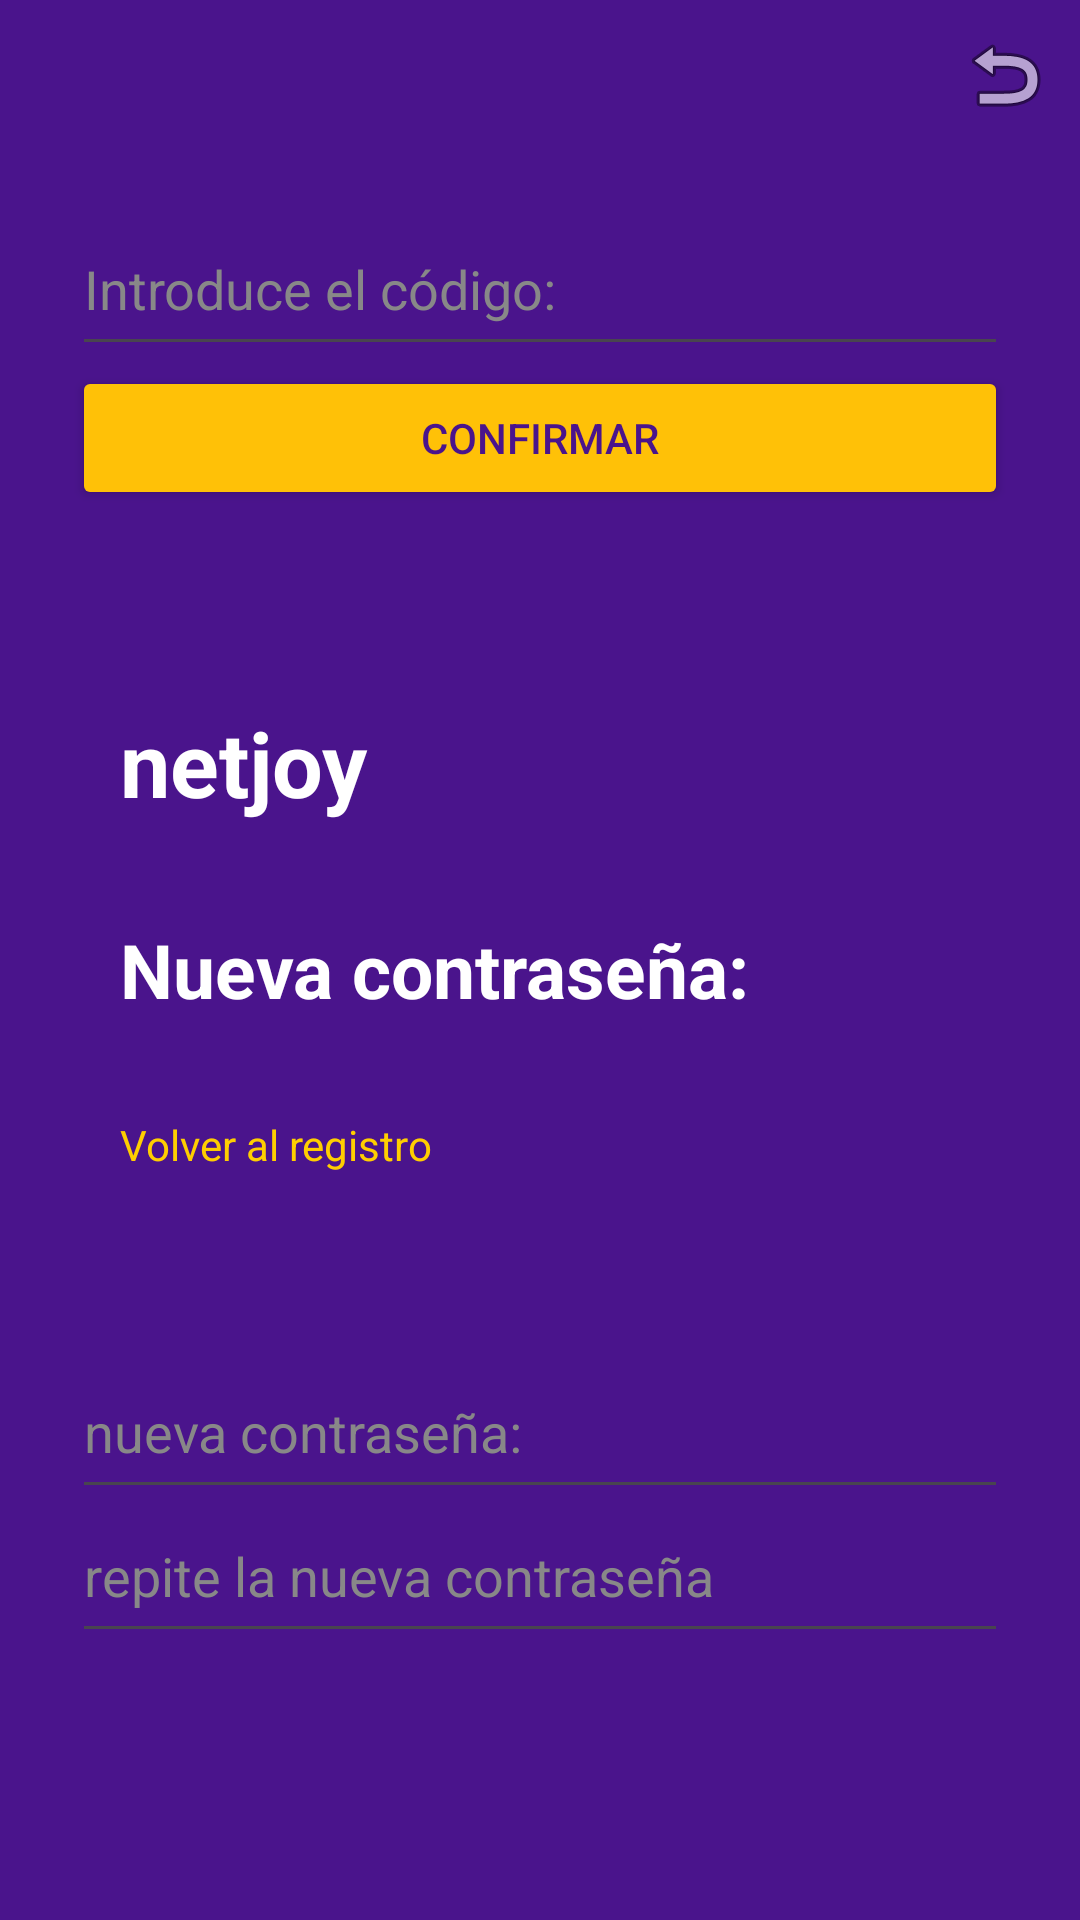

Screen size 1080*1920. Icon name, then its box in pixels as box(x1, y1, x2, y2):
Navega de vuelta a la ventana anterior: box(972, 45, 1041, 107)
